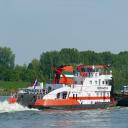tugboat: (8, 60, 120, 114)
